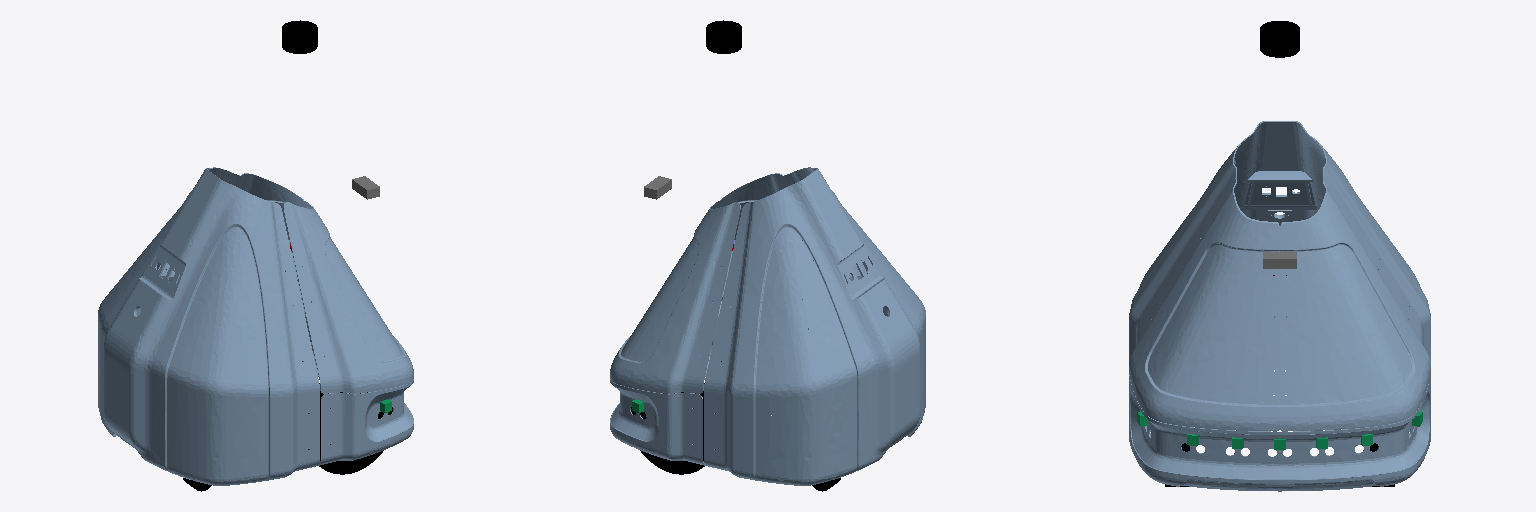
The robot description file, URDF, robot "verter_robot":
<?xml version='1.0' encoding='utf-8' ?>
<robot name="verter_robot">
  <!--Lidar/IMU mounting confirmed unchanged by owner. Ultrasonic XYZ fitted to CAD at 148 mm, not surveyed.-->
  <material name="blue">
    <color rgba="0.0 0.0 0.8 1.0" />
  </material>
  <material name="black">
    <color rgba="0.0 0.0 0.0 1.0" />
  </material>
  <material name="red">
    <color rgba="0.8 0.0 0.0 1.0" />
  </material>
  <material name="gray">
    <color rgba="0.5 0.5 0.5 1.0" />
  </material>
  <link name="base_footprint" />
  <link name="base_link">
    <visual>
      <origin xyz="0 0 -0.05" rpy="0 0 0" />
      <geometry>
        <mesh filename="package://verter_description/meshes/platform_aligned_m.stl" scale="1 1 1" />
      </geometry>
      <material name="cad_shell">
        <color rgba="0.55 0.65 0.75 1" />
      </material>
    </visual>
    <collision>
      <origin xyz="-0.119314286 0 0.230208260" rpy="0 0 0" />
      <geometry>
        <box size="0.588628571 0.533153477 0.560416520" />
      </geometry>
    </collision>
  </link>
  <joint name="base_footprint_joint" type="fixed">
    <parent link="base_footprint" />
    <child link="base_link" />
    <origin xyz="0 0 0.1" rpy="0 0 0" />
  </joint>
  <link name="wheel_left">
    <visual>
      <origin xyz="0 0 0" rpy="1.5708 0 0" />
      <geometry>
        <cylinder radius="0.098" length="0.050" />
      </geometry>
      <material name="black" />
    </visual>
    <collision>
      <origin xyz="0 0 0" rpy="1.5708 0 0" />
      <geometry>
        <cylinder radius="0.098" length="0.050" />
      </geometry>
    </collision>
  </link>
  <joint name="wheel_left_joint" type="fixed">
    <parent link="base_link" />
    <child link="wheel_left" />
    <origin xyz="0 .178 -0.002" rpy="0 0 0" />
  </joint>
  <link name="wheel_right">
    <visual>
      <origin xyz="0 0 0" rpy="1.5708 0 0" />
      <geometry>
        <cylinder radius="0.098" length="0.050" />
      </geometry>
      <material name="black" />
    </visual>
    <collision>
      <origin xyz="0 0 0" rpy="1.5708 0 0" />
      <geometry>
        <cylinder radius="0.098" length="0.050" />
      </geometry>
    </collision>
  </link>
  <joint name="wheel_right_joint" type="fixed">
    <parent link="base_link" />
    <child link="wheel_right" />
    <origin xyz="0 -.178 -0.002" rpy="0 0 0" />
  </joint>
  <link name="sensor_front_center">
    <visual>
      <origin xyz="0 0 0" rpy="0 0 0" />
      <geometry>
        <box size="0.02 0.02 0.02" />
      </geometry>
      <material name="ultrasonic_sensor" />
    </visual>
  </link>
  <joint name="sensor_front_center_joint" type="fixed">
    <parent link="base_link" />
    <child link="sensor_front_center" />
    <origin xyz="0.1550 0.0000 0.048" rpy="0 0 0.000000000000" />
  </joint>
  <link name="sensor_front_left_inner">
    <visual>
      <origin xyz="0 0 0" rpy="0 0 0" />
      <geometry>
        <box size="0.02 0.02 0.02" />
      </geometry>
      <material name="ultrasonic_sensor" />
    </visual>
  </link>
  <joint name="sensor_front_left_inner_joint" type="fixed">
    <parent link="base_link" />
    <child link="sensor_front_left_inner" />
    <origin xyz="0.1509 0.0740 0.048" rpy="0 0 0.099483767364" />
  </joint>
  <link name="sensor_front_left_outer">
    <visual>
      <origin xyz="0 0 0" rpy="0 0 0" />
      <geometry>
        <box size="0.02 0.02 0.02" />
      </geometry>
      <material name="ultrasonic_sensor" />
    </visual>
  </link>
  <joint name="sensor_front_left_outer_joint" type="fixed">
    <parent link="base_link" />
    <child link="sensor_front_left_outer" />
    <origin xyz="0.1369 0.1520 0.048" rpy="0 0 0.230383461263" />
  </joint>
  <link name="sensor_front_right_inner">
    <visual>
      <origin xyz="0 0 0" rpy="0 0 0" />
      <geometry>
        <box size="0.02 0.02 0.02" />
      </geometry>
      <material name="ultrasonic_sensor" />
    </visual>
  </link>
  <joint name="sensor_front_right_inner_joint" type="fixed">
    <parent link="base_link" />
    <child link="sensor_front_right_inner" />
    <origin xyz="0.1509 -0.0740 0.048" rpy="0 0 -0.099483767364" />
  </joint>
  <link name="sensor_front_right_outer">
    <visual>
      <origin xyz="0 0 0" rpy="0 0 0" />
      <geometry>
        <box size="0.02 0.02 0.02" />
      </geometry>
      <material name="ultrasonic_sensor" />
    </visual>
  </link>
  <joint name="sensor_front_right_outer_joint" type="fixed">
    <parent link="base_link" />
    <child link="sensor_front_right_outer" />
    <origin xyz="0.1369 -0.1520 0.048" rpy="0 0 -0.230383461263" />
  </joint>
  <link name="sensor_left">
    <visual>
      <origin xyz="0 0 0" rpy="0 0 0" />
      <geometry>
        <box size="0.02 0.02 0.02" />
      </geometry>
      <material name="ultrasonic_sensor" />
    </visual>
  </link>
  <joint name="sensor_left_joint" type="fixed">
    <parent link="base_link" />
    <child link="sensor_left" />
    <origin xyz="0.0550 0.2390 0.048" rpy="0 0 1.324704902264" />
  </joint>
  <link name="sensor_right">
    <visual>
      <origin xyz="0 0 0" rpy="0 0 0" />
      <geometry>
        <box size="0.02 0.02 0.02" />
      </geometry>
      <material name="ultrasonic_sensor" />
    </visual>
  </link>
  <joint name="sensor_right_joint" type="fixed">
    <parent link="base_link" />
    <child link="sensor_right" />
    <origin xyz="0.0550 -0.2390 0.048" rpy="0 0 -1.324704902264" />
  </joint>
  <link name="camera_tof">
    <visual>
      <origin xyz="0 0 0" rpy="0 0 0" />
      <geometry>
        <box size="0.03 0.06 0.02" />
      </geometry>
      <material name="gray" />
    </visual>
  </link>
  <joint name="camera_tof_joint" type="fixed">
    <parent link="base_link" />
    <child link="camera_tof" />
    <origin xyz="0.150 0 0.400" rpy="0 0 0" />
  </joint>
  <link name="camera_tof_optical" />
  <joint name="camera_tof_optical_joint" type="fixed">
    <parent link="camera_tof" />
    <child link="camera_tof_optical" />
    <origin xyz="0 0 0" rpy="-1.5708 0 -1.5708" />
  </joint>
  <link name="lidar_link">
    <visual>
      <origin xyz="0 0 0" rpy="0 0 0" />
      <geometry>
        <cylinder radius="0.035" length="0.04" />
      </geometry>
      <material name="black" />
    </visual>
  </link>
  <joint name="lidar_joint" type="fixed">
    <parent link="base_link" />
    <child link="lidar_link" />
    <origin xyz="0 0 0.76" rpy="0 0 0" />
  </joint>
  <link name="imu_link">
    <visual>
      <origin xyz="0 0 0" rpy="0 0 0" />
      <geometry>
        <box size="0.03 0.03 0.01" />
      </geometry>
      <material name="red" />
    </visual>
  </link>
  <joint name="imu_joint" type="fixed">
    <parent link="base_link" />
    <child link="imu_link" />
    <origin xyz="0 0 0.305" rpy="0 0 0" />
  </joint>
  <link name="caster_back_left">
    <visual>
      <origin xyz="0 0 0" rpy="1.570796326795 0 0" />
      <geometry>
        <cylinder radius="0.025" length="0.040" />
      </geometry>
      <material name="black" />
    </visual>
    <collision>
      <origin xyz="0 0 0" rpy="1.570796326795 0 0" />
      <geometry>
        <cylinder radius="0.025" length="0.040" />
      </geometry>
    </collision>
  </link>
  <joint name="caster_back_left_joint" type="fixed">
    <parent link="base_link" />
    <child link="caster_back_left" />
    <origin xyz="-0.291628571 0.109 -0.075" rpy="0 0 0" />
  </joint>
  <link name="caster_back_right">
    <visual>
      <origin xyz="0 0 0" rpy="1.570796326795 0 0" />
      <geometry>
        <cylinder radius="0.025" length="0.040" />
      </geometry>
      <material name="black" />
    </visual>
    <collision>
      <origin xyz="0 0 0" rpy="1.570796326795 0 0" />
      <geometry>
        <cylinder radius="0.025" length="0.040" />
      </geometry>
    </collision>
  </link>
  <joint name="caster_back_right_joint" type="fixed">
    <parent link="base_link" />
    <child link="caster_back_right" />
    <origin xyz="-0.291628571 -0.109 -0.075" rpy="0 0 0" />
  </joint>
  <material name="ultrasonic_sensor">
    <color rgba="0.1 0.65 0.4 1" />
  </material>
</robot>

--- Facts derived from the render (not from the file) ---
Views: 3 orthographic renders of the robot side by side, from view 1: azimuth 30°, elevation 25°; view 2: azimuth 150°, elevation 25°; view 3: azimuth 270°, elevation 25°.
Robot: verter_robot — 17 links, 16 joints (16 fixed); root link base_footprint; default pose: every joint at zero.
Links seen in each view (by area): view 1: base_link, lidar_link, wheel_right; view 2: base_link, lidar_link, wheel_left; view 3: base_link, lidar_link, camera_tof.
Boxes of the visible links, x1,y1,x2,y2 form: base_link: (98, 167, 413, 485); lidar_link: (282, 20, 317, 53); wheel_right: (308, 383, 392, 474); base_link: (610, 167, 925, 485); lidar_link: (706, 20, 741, 53); wheel_left: (631, 383, 715, 474); base_link: (1129, 121, 1430, 491); lidar_link: (1260, 21, 1299, 57); camera_tof: (1263, 252, 1296, 268).
Size in the robot's own frame: 0.5886 by 0.5332 by 0.88 metres.
1 mesh visuals loaded from 1 distinct referenced files (1 binary STL).
